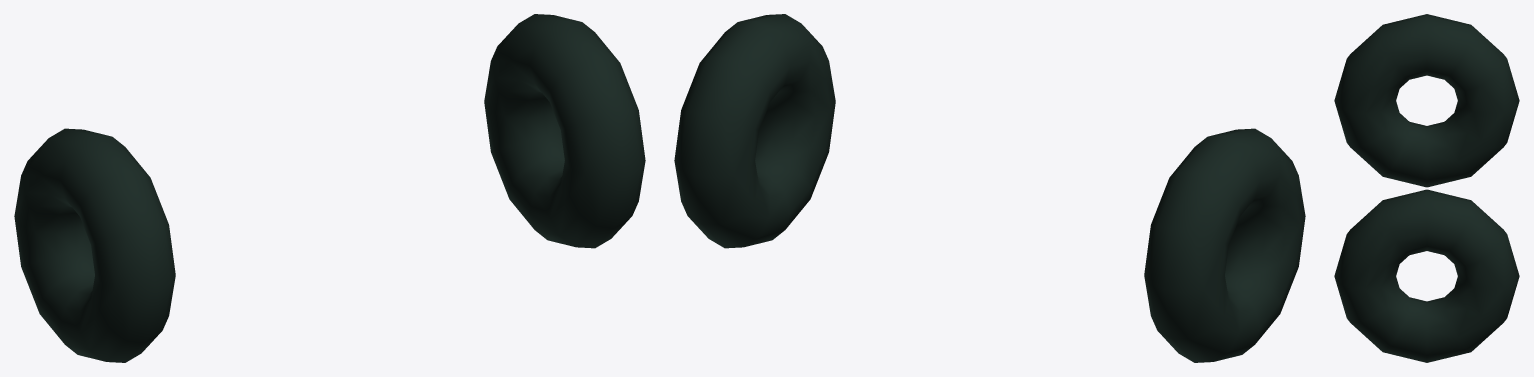
Rendered from stoneFront.dae.
The picture shows the model from 3 angles, left to right: view 1: azimuth 30°, elevation 25°; view 2: azimuth 150°, elevation 25°; view 3: azimuth 270°, elevation 25°; orthographic projection. The views are drawn at different scales.
Parts seen in each view (by area): view 1: pTorus14; view 2: pTorus14; view 3: pTorus14.
Boxes of the visible parts, left/top/right/bottom form: pTorus14: left=14, top=14, right=645, bottom=362; pTorus14: left=674, top=14, right=1305, bottom=362; pTorus14: left=1334, top=14, right=1519, bottom=362.
Bounding box in the file's own units: 1.54 × 0.5985 × 0.5985.
1 material, 1 textured.
